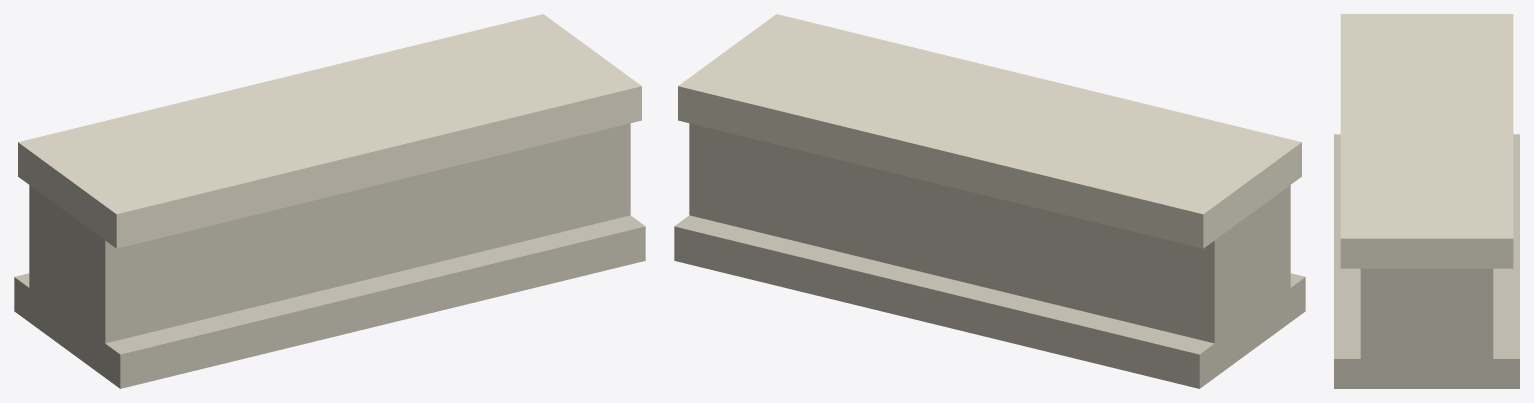
The model's file is retaining-wall.glb.
The picture shows the model from 3 angles, left to right: view 1: azimuth 30°, elevation 25°; view 2: azimuth 150°, elevation 25°; view 3: azimuth 270°, elevation 25°; orthographic projection. The views are drawn at different scales.
Visible parts, largest first — view 1: retaining-wall; view 2: retaining-wall; view 3: retaining-wall.
Part boxes in pixels (bbox=[...]): retaining-wall: bbox=[14, 14, 645, 388]; retaining-wall: bbox=[674, 14, 1305, 388]; retaining-wall: bbox=[1334, 14, 1519, 388].
Bounding box in the file's own units: 4 × 1.25 × 1.4.
